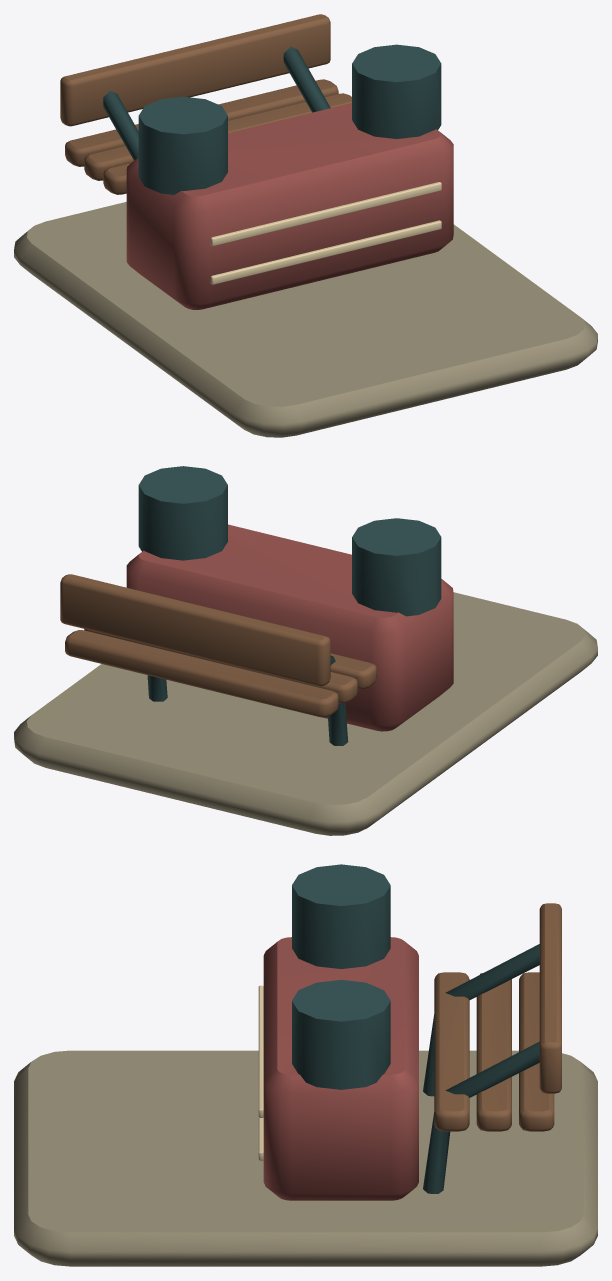
The model's file is route66_workshop_1.glb.
3 views of the same model, one above another, from view 1: azimuth 30°, elevation 25°; view 2: azimuth 150°, elevation 25°; view 3: azimuth 270°, elevation 25° (orthographic). The views are drawn at different scales.
Visible parts, largest first — view 1: Route66Workshop1; view 2: Route66Workshop1; view 3: Route66Workshop1.
Part boxes in pixels (x1=…): Route66Workshop1: x1=14, y1=14, x2=597, y2=437; Route66Workshop1: x1=14, y1=466, x2=597, y2=835; Route66Workshop1: x1=14, y1=864, x2=597, y2=1266.
Bounding box in the file's own units: 1.95 × 1.09 × 2.48.
